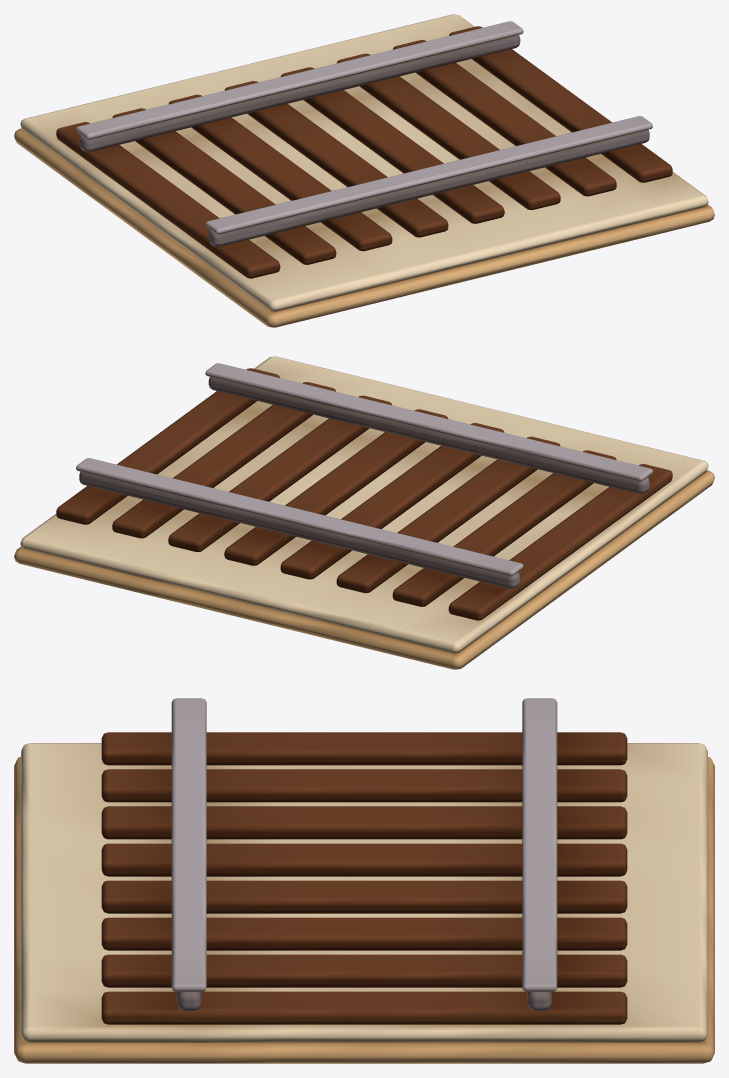
File: tile_rail_straight.glb
The picture shows the model from 3 angles, top to bottom: view 1: azimuth 30°, elevation 25°; view 2: azimuth 150°, elevation 25°; view 3: azimuth 270°, elevation 25°; orthographic projection. The views are drawn at different scales.
Parts seen in each view (by area): view 1: bed_top, bed, rail_head1, rail_head-1, tie0, rail-1, rail1, tie1, tie5, tie7, tie3, tie4 (+2 smaller); view 2: bed_top, bed, rail_head-1, rail_head1, tie0, rail1, rail-1, tie1, tie5, tie7, tie3, tie4 (+2 smaller); view 3: bed_top, bed, tie7, tie0, tie1, tie2, tie3, tie4, tie5, tie6, rail_head1, rail_head-1.
Boxes of the visible parts, x1,y1,x2,y2 form: bed_top: [20, 14, 708, 311]; bed: [14, 128, 714, 327]; rail_head1: [76, 21, 523, 139]; rail_head-1: [205, 116, 652, 234]; tie0: [56, 122, 280, 278]; rail-1: [208, 129, 649, 246]; rail1: [79, 35, 520, 151]; tie1: [112, 108, 336, 264]; tie5: [337, 53, 560, 209]; tie7: [449, 26, 672, 182]; tie3: [224, 81, 448, 237]; tie4: [280, 67, 504, 223]; bed_top: [20, 356, 708, 653]; bed: [14, 470, 714, 669]; rail_head-1: [205, 363, 652, 481]; rail_head1: [76, 458, 523, 576]; tie0: [448, 464, 672, 620]; rail1: [79, 471, 520, 588]; rail-1: [208, 377, 649, 493]; tie1: [392, 450, 616, 606]; tie5: [168, 395, 391, 551]; tie7: [56, 368, 279, 524]; tie3: [280, 423, 504, 579]; tie4: [224, 409, 448, 565]; bed_top: [21, 743, 707, 1042]; bed: [14, 757, 714, 1063]; tie7: [101, 991, 627, 1024]; tie0: [101, 732, 627, 765]; tie1: [101, 769, 627, 802]; tie2: [101, 806, 627, 839]; tie3: [101, 843, 627, 876]; tie4: [101, 880, 627, 913]; tie5: [101, 917, 627, 950]; tie6: [101, 954, 627, 987]; rail_head1: [522, 698, 557, 991]; rail_head-1: [171, 698, 206, 991].
Size of the model in its own units: 4 by 0.495 by 4.
